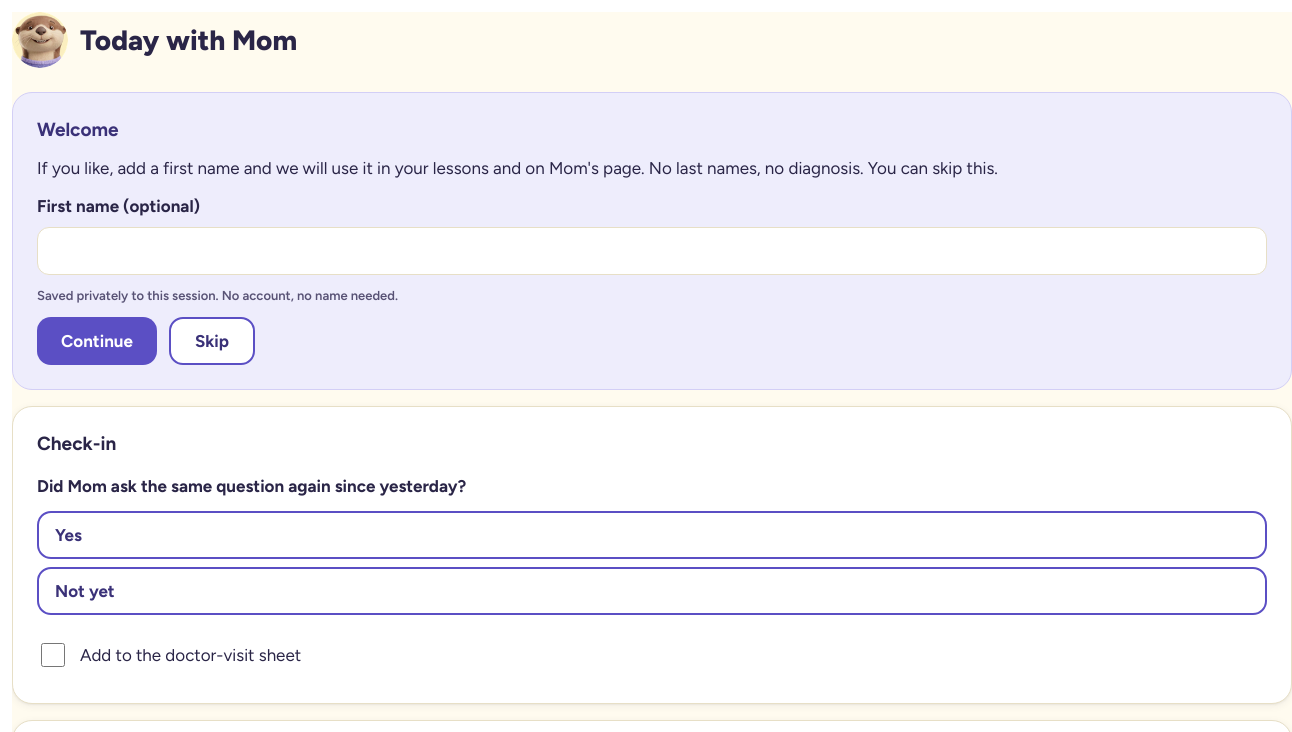
Test: Check-in card › 409 already answered says so and refetches Today
Expected: the heading "Today with Mom" is shown, x1=80 y1=23 x2=297 y2=57
Click the button "Not yet". click: (85, 591)
box: x1=37 y1=567 x2=1267 y2=615
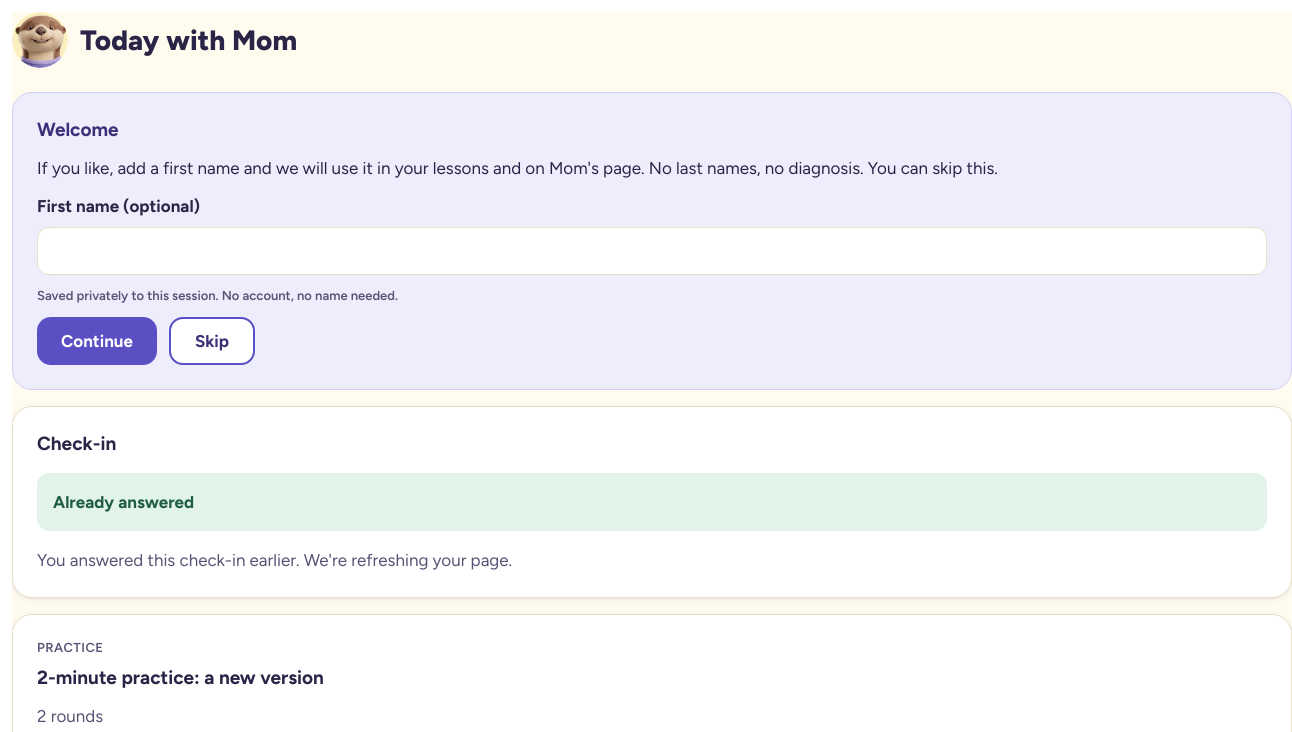
Expected: the text "Already answered" is shown, x1=37 y1=473 x2=1267 y2=531
